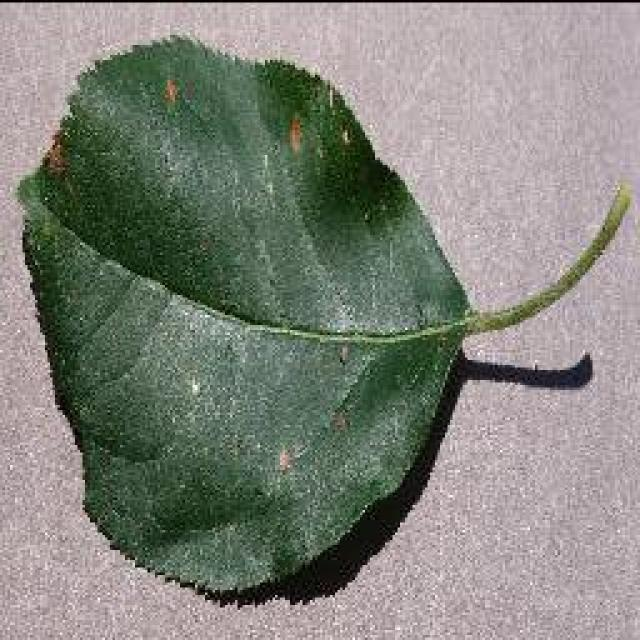Black_rot: (12, 30, 632, 602)
